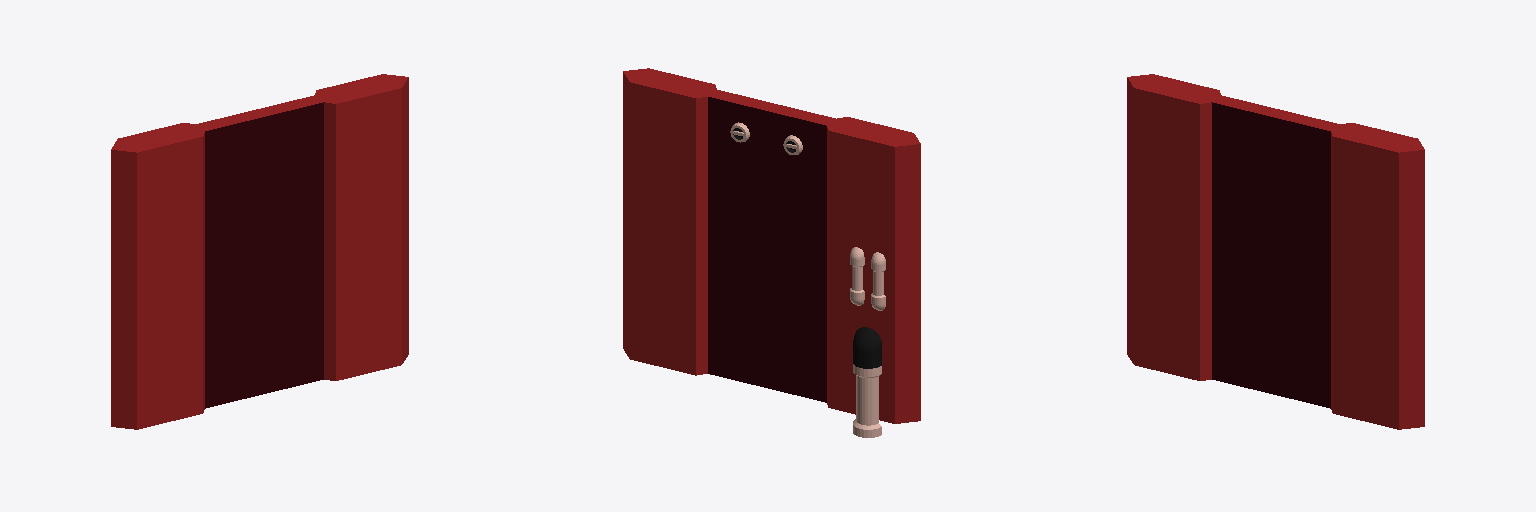
File: WallSegment.obj
3 views of the same model, side by side, from view 1: azimuth 30°, elevation 25°; view 2: azimuth 150°, elevation 25°; view 3: azimuth 330°, elevation 25° (orthographic).
Parts seen in each view (by area): view 1: mergedBlocks; view 2: mergedBlocks; view 3: mergedBlocks.
Boxes of the visible parts, x1=… form: mergedBlocks: x1=111, y1=74, x2=408, y2=429; mergedBlocks: x1=623, y1=68, x2=920, y2=437; mergedBlocks: x1=1127, y1=74, x2=1424, y2=429.
Bounding box in the file's own units: 1.12 × 1.05 × 0.1763.